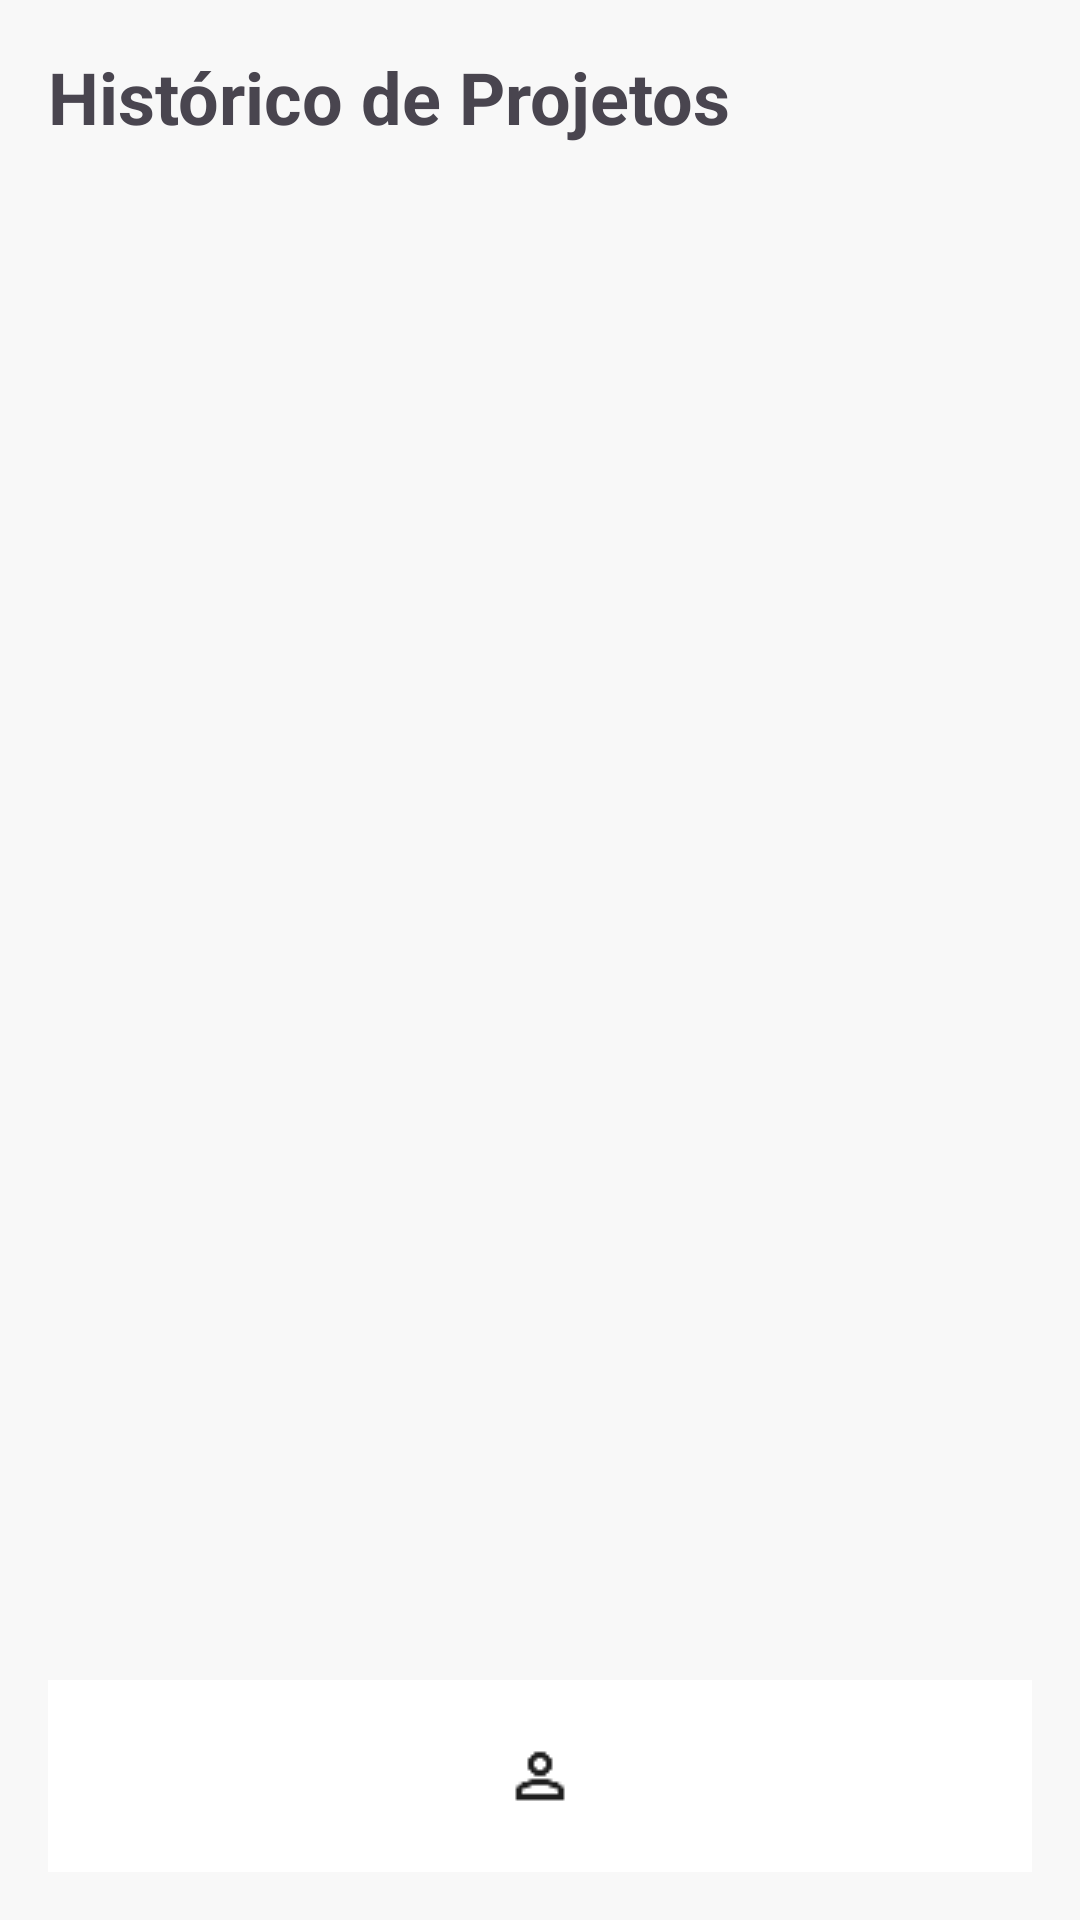

Where icons sit on this 1080px×1920px app screen, as (x1, y1, x2, y2):
Perfil: (515, 1751, 565, 1801)
